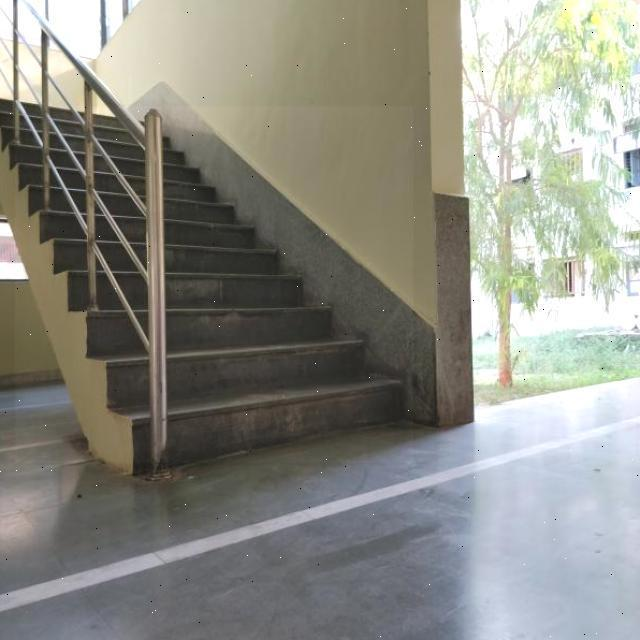stair: (15, 107, 413, 464)
